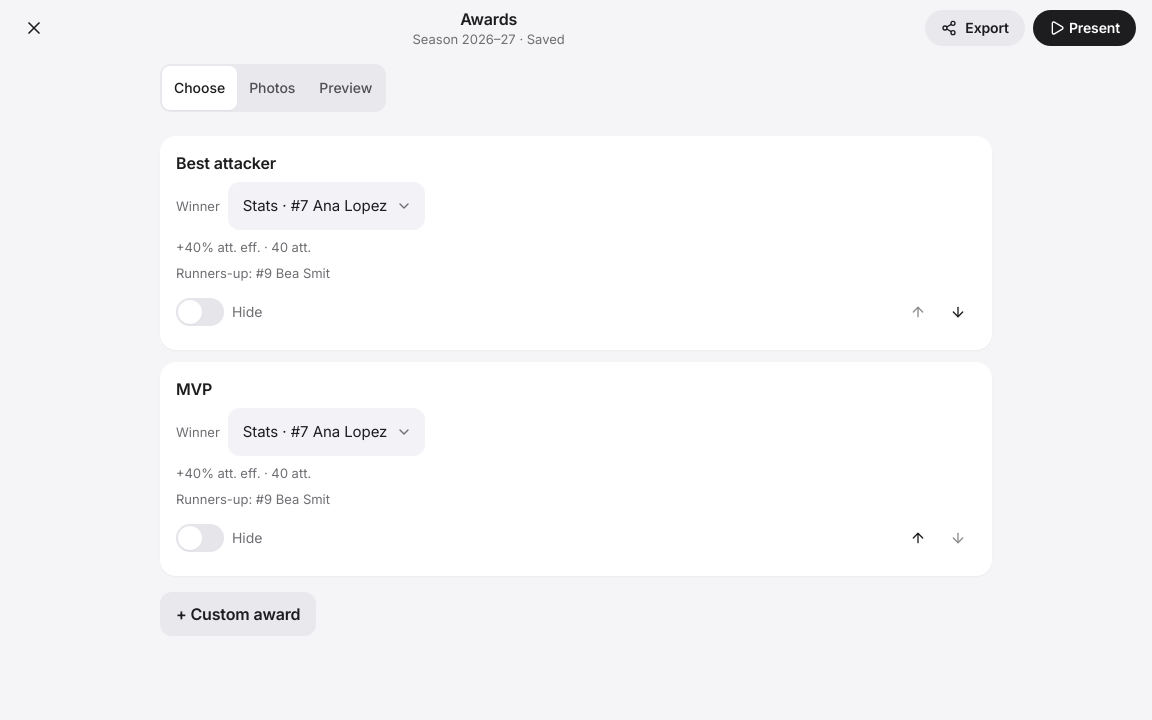
Test: AwardsPrepare › disables photo controls for a winner without consent and says why
Click the tab "Photos": [272, 88] box [237,66,307,110]
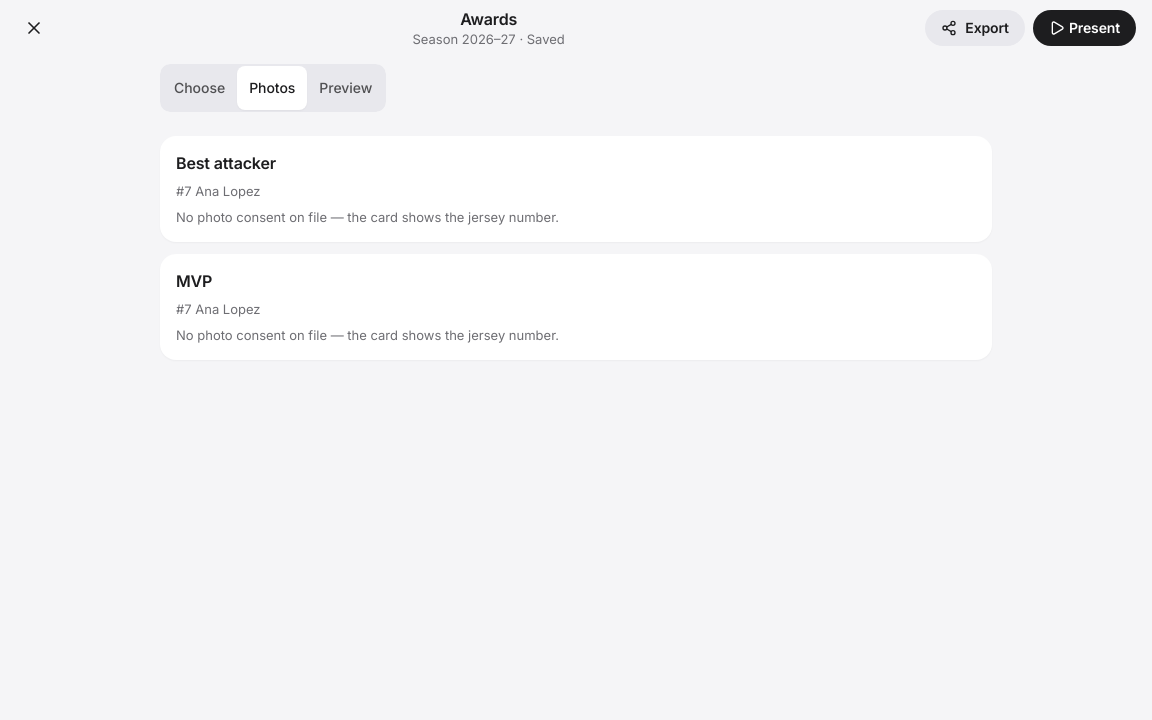
Expected: the text "No photo consent on file — the card shows the jersey number." below "Best attacker" is shown, [176,209,559,225]
